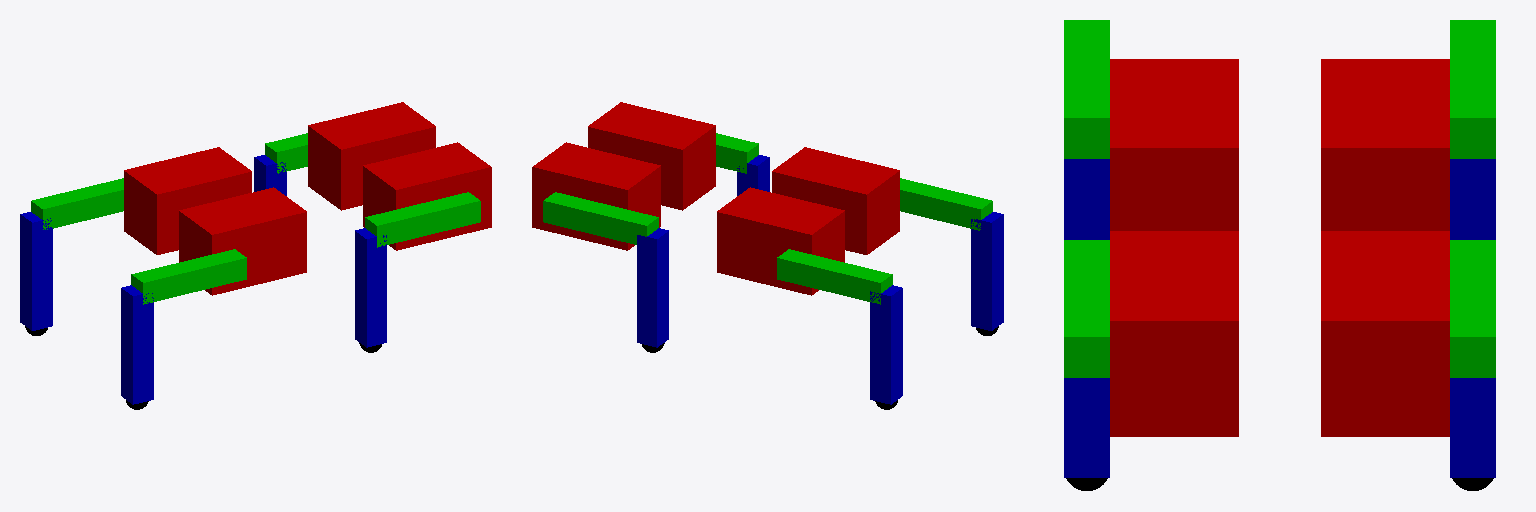
The robot description file, URDF, robot "aidin_m1":
<?xml version="1.0"?>
<robot name="aidin_m1">

  <material name="black">
    <color rgba="0.0 0.0 0.0 1.0"/>
  </material>
  <material name="blue">
    <color rgba="0.0 0.0 0.8 1.0"/>
  </material>
  <material name="green">
    <color rgba="0.0 0.8 0.0 1.0"/>
  </material>
  <material name="grey">
    <color rgba="0.2 0.2 0.2 1.0"/>
  </material>
  <material name="silver">
    <color rgba="0.913725490196 0.913725490196 0.847058823529 1.0"/>
  </material>
  <material name="orange">
    <color rgba="1.0 0.423529411765 0.0392156862745 1.0"/>
  </material>
  <material name="brown">
    <color rgba="0.870588235294 0.811764705882 0.764705882353 1.0"/>
  </material>
  <material name="red">
    <color rgba="0.8 0.0 0.0 1.0"/>
  </material>
  <material name="yellow">
    <color rgba="0.8 0.8 0.0 1.0"/>
  </material>
  <material name="white">
    <color rgba="1.0 1.0 1.0 1.0"/>
  </material>

<!--////////////////////////////////   Odom    ////////////////////////////////-->

  <!-- <link name="odom" /> -->

  <!-- "world" link -->
  <link name="world"/>
  <gazebo reference="world">
    <static>true</static>
  </gazebo>

  <joint name="odom_joint" type="fixed">
    <child link="body"/>
    <parent link="world"/>
    <origin xyz="0 0 0.550" rpy="0 0 0"/>
  </joint>

  <!-- <joint name="fixed_base" type="fixed">
    <origin xyz="0 0 0" rpy="0 0 0"/>
    <parent link="world"/>
    <child link="base"/>
  </joint> -->

<!--////////////////////////////////   Body    ////////////////////////////////-->

  <link name="body">
    <inertial>
      <mass value="10"/>
      <origin xyz="0 0 0" rpy="0 0 0"/>
      <inertia ixx="0.15296333" ixy="0" ixz="0" iyy="0.07221333" iyz="0" izz="0.1474166667"/>
    </inertial>

    <collision>
      <origin xyz="0 0 0" rpy="0 0 0"/>
      <geometry>
        <box size="0.200 0.370 0.216"/>
      </geometry>
    </collision>

    <visual name="body_visual">
      <origin xyz="0 0 0" rpy="0 0 0"/>
      <geometry>
        <!-- <box size="0.200 0.370 0.216"/> -->
        <mesh filename="[local-path]/dev_ws/src/aidin_m1/meshes/body_1.stl" scale="0.001 0.001 0.001"/>
      </geometry>
      <material name="silver"/>
    </visual>
  </link>
  <gazebo reference="body">
    <material>Gazebo/DarkGrey</material>
  </gazebo>

<!--//////////////////////////////// RF LINKS /////////////////////////////////-->

  <link name="RF_scap">
    <inertial>
      <mass value="6"/>
      <origin xyz="0 0 0" rpy="0 0 0"/>
      <inertia ixx="0.73716790" ixy="0.130721360" ixz="0" iyy="0.431162858" iyz="0" izz="0.477083568"/>
    </inertial>

    <collision>
      <origin xyz="0 0 -0.060" rpy="0 0 0"/>
      <geometry>
        <box size="0.140 0.140 0.230"/>
      </geometry>
    </collision>

    <visual name="RF_scap_vis_cover1">
      <origin xyz="0 0 -0.060" rpy="0 0 0"/>
      <geometry>
        <!-- <cylinder length="0.0760" radius="0.0730"/> -->
        <!-- <mesh filename="file://$(find aidin_m1)/meshes/actuator.stl"/>  ////fail,,//// -->
        <!-- <mesh filename="[local-path]/dev_ws/src/aidin_m1/meshes/sc_cover_RF_1.stl" scale="0.001 0.001 0.001"/> -->
        <box size="0.140 0.140 0.230"/>
      </geometry>
      <material name="red"/>
    </visual>
  </link>
  <gazebo reference="RF_scap">
    <material>Gazebo/Red</material>
  </gazebo>

  <link name="RF_hip">
    <inertial>
      <mass value="0.600"/>
      <origin xyz="0.125 0 0" rpy="0 0 0"/>
      <inertia ixx="0.001541527" ixy="0.000007051" ixz="-0.000001356" iyy="0.001938779" iyz="0.000000659" izz="0.001547151"/>
    </inertial>

    <collision>
      <origin xyz="0.125 0 0" rpy="0 0 0"/>
      <geometry>
        <box size="0.250 0.050 0.050"/>
      </geometry>
    </collision>

    <visual name="RF_hip_vis_cover">
      <origin xyz="0.125 0 0" rpy="0 0 0"/>
      <geometry>
        <box size="0.250 0.050 0.050"/>
      </geometry>
      <material name="green"/>
    </visual>
  </link>
  <gazebo reference="RF_hip">
    <material>Gazebo/Green</material>
  </gazebo>

  <link name="RF_knee">
    <inertial>
      <mass value="0.600"/>
      <origin xyz="0.125 0 0" rpy="0 0 0"/>
      <inertia ixx="0.001541527" ixy="0.000007051" ixz="-0.000001356" iyy="0.001938779" iyz="0.000000659" izz="0.001547151"/>
    </inertial>

    <collision>
      <origin xyz="0.145 0 0" rpy="0 0 0"/>
      <geometry>
        <box size="0.230 0.050 0.050"/>
      </geometry>
    </collision>

    <visual name="RF_knee_vis_cover">
      <origin xyz="0.125 0 0" rpy="0 0 0"/>
      <geometry>
        <box size="0.250 0.050 0.050"/>
      </geometry>
      <material name="blue"/>
    </visual>
  </link>
  <gazebo reference="RF_knee">
    <material>Gazebo/Blue</material>
  </gazebo>

  <link name="RF_foot">
    <inertial>
      <mass value="0.01"/>
      <inertia ixx="0" ixy="0.0" ixz="0.0" iyy="0" iyz="0.0" izz="0"/>
    </inertial>

    <collision name="RF_foot_col1">
      <origin rpy="0 0 0" xyz="0 0 0"/>
      <geometry>
        <sphere radius="0.025"/>
      </geometry>
    </collision>

    <visual name="RF_foot_vis_cover">
      <origin rpy="0 0 0" xyz="0 0 0"/>
      <geometry>
        <sphere radius="0.0250"/>
      </geometry>
      <material name="black"/>
    </visual>
  </link>
  <gazebo reference="RF_foot">
    <material>Gazebo/Black</material>
  </gazebo>

<!--//////////////////////////////// RF JOINTS ////////////////////////////////-->

  <joint name="RFJ_scap" type="revolute">
    <parent link="body"/>
    <child link="RF_scap"/>
    <origin xyz="0.282 -0.1150 0" rpy="-1.57079 0 -1.57079"/>
    <axis xyz="0 0 1"/>
    <limit lower="0" upper="0.7854" effort="200.0" velocity="9"/>
    <dynamics damping="1.5"/>
  </joint>

  <joint name="RFJ_hip" type="continuous">
    <parent link="RF_scap"/>
    <child link="RF_hip"/>
    <origin xyz="0.095 0 0" rpy="-1.57079  1.57079 -1.57079"/>
    <axis xyz="0 0 1"/>
    <!-- <limit lower="-3.14" upper="3.14" effort="200.0" velocity="9"/> -->
    <dynamics damping="1.5"/>
  </joint>

  <joint name="RFJ_knee" type="continuous">
    <parent link="RF_hip"/>
    <child link="RF_knee"/>
    <origin xyz="0.250 0 0" rpy="0 0 1.57079"/>
    <axis xyz="0 0 1"/>
    <!-- <limit lower="-1.308996939" upper="1.0471975512" effort="200.0" velocity="9"/> -->
    <dynamics damping="1.5"/>
  </joint>

  <joint name="RFJ_foot" type="fixed" dont_collapse="true">
    <parent link="RF_knee"/>
    <child link="RF_foot"/>
    <origin xyz="0.25 0 0" rpy="0 0 0"/>
    <axis xyz="0 0 1"/>
  </joint>

<!--//////////////////////////////// LF LINKS /////////////////////////////////-->

  <link name="LF_scap">
    <inertial>
      <mass value="6"/>
      <origin xyz="0 0 0" rpy="0 0 0"/>
      <inertia ixx="0.73716790" ixy="0.130721360" ixz="0" iyy="0.431162858" iyz="0" izz="0.477083568"/>
    </inertial>

    <collision>
      <origin xyz="0 0 -0.060" rpy="0 0 0"/>
      <geometry>
        <box size="0.140 0.140 0.230"/>
      </geometry>
    </collision>

    <visual name="LF_scap_vis_cover1">
      <origin xyz="0 0 -0.060" rpy="0 0 0"/>
      <geometry>
        <box size="0.140 0.140 0.230"/>
      </geometry>
      <material name="red"/>
    </visual>
  </link>
  <gazebo reference="LF_scap">
    <material>Gazebo/Red</material>
  </gazebo>

  <link name="LF_hip">
    <inertial>
      <mass value="0.600"/>
      <origin xyz="0.125 0 0" rpy="0 0 0"/>
      <inertia ixx="0.001541527" ixy="0.000007051" ixz="-0.000001356" iyy="0.001938779" iyz="0.000000659" izz="0.001547151"/>
    </inertial>

    <collision>
      <origin xyz="0.125 0 0" rpy="0 0 0"/>
      <geometry>
        <box size="0.250 0.050 0.050"/>
      </geometry>
    </collision>

    <visual name="LF_hip_vis_cover">
      <origin xyz="0.125 0 0" rpy="0 0 0"/>
      <geometry>
        <box size="0.250 0.050 0.050"/>
      </geometry>
      <material name="green"/>
    </visual>
  </link>
  <gazebo reference="LF_hip">
    <material>Gazebo/Green</material>
  </gazebo>

  <link name="LF_knee">
    <inertial>
      <mass value="0.600"/>
      <origin xyz="0.125 0 0" rpy="0 0 0"/>
      <inertia ixx="0.001541527" ixy="0.000007051" ixz="-0.000001356" iyy="0.001938779" iyz="0.000000659" izz="0.001547151"/>
    </inertial>

    <collision>
      <origin xyz="0.145 0 0" rpy="0 0 0"/>
      <geometry>
        <box size="0.230 0.050 0.050"/>
      </geometry>
    </collision>

    <visual name="LF_knee_vis_cover">
      <origin xyz="0.125 0 0" rpy="0 0 0"/>
      <geometry>
        <box size="0.250 0.050 0.050"/>
      </geometry>
      <material name="blue"/>
    </visual>
  </link>
  <gazebo reference="LF_knee">
    <material>Gazebo/Blue</material>
  </gazebo>

  <link name="LF_foot">
    <inertial>
      <mass value="0.01"/>
      <inertia ixx="0" ixy="0.0" ixz="0.0" iyy="0" iyz="0.0" izz="0"/>
    </inertial>

    <collision name="LF_foot_col1">
      <origin rpy="0 0 0" xyz="0 0 0"/>
      <geometry>
        <sphere radius="0.025"/>
      </geometry>
    </collision>

    <visual name="LF_foot_vis_cover">
      <origin rpy="0 0 0" xyz="0 0 0"/>
      <geometry>
        <sphere radius="0.0250"/>
      </geometry>
      <material name="black"/>
    </visual>
  </link>
  <gazebo reference="LF_foot">
    <material>Gazebo/Black</material>
  </gazebo>

<!--//////////////////////////////// LF JOINTS ////////////////////////////////-->

  <joint name="LFJ_scap" type="revolute">
    <parent link="body"/>
    <child link="LF_scap"/>
    <origin xyz="0.282 0.115 0" rpy="1.57079 0 1.57079"/>
    <axis xyz="0 0 1"/>
    <limit lower="-0.7854" upper="0" effort="200.0" velocity="9"/>
    <dynamics damping="3"/>
  </joint>

  <joint name="LFJ_hip" type="continuous">
    <parent link="LF_scap"/>
    <child link="LF_hip"/>
    <origin xyz="0.095 0 0" rpy="-1.57079 1.57079 1.57079"/>
    <axis xyz="0 0 1"/>
    <!-- <limit lower="-3.14" upper="3.14" effort="200.0" velocity="9"/> -->
    <dynamics damping="1.5"/>
  </joint>

  <joint name="LFJ_knee" type="continuous">
    <parent link="LF_hip"/>
    <child link="LF_knee"/>
    <origin xyz="0.250 0 0" rpy="0 0 1.57079"/>
    <axis xyz="0 0 1"/>
    <!-- <limit lower="-1.308996939" upper="1.0471975512" effort="200.0" velocity="9"/> -->
    <dynamics damping="1.5"/>
  </joint>

  <joint name="LFJ_foot" type="fixed" dont_collapse="true">
    <parent link="LF_knee"/>
    <child link="LF_foot"/>
    <origin xyz="0.25 0 0" rpy="0 0 0"/>
    <axis xyz="0 0 1"/>
  </joint>

<!--//////////////////////////////// LB LINKS /////////////////////////////////-->

  <link name="LB_scap">
    <inertial>
      <mass value="6"/>
      <origin xyz="0 0 0" rpy="0 0 0"/>
      <inertia ixx="0.73716790" ixy="0.130721360" ixz="0" iyy="0.431162858" iyz="0" izz="0.477083568"/>
    </inertial>

    <collision>
      <origin xyz="0 0 0.060" rpy="0 0 0"/>
      <geometry>
        <box size="0.140 0.140 0.230"/>
      </geometry>
    </collision>

    <visual name="LB_scap_vis_cover1">
      <origin xyz="0 0 0.060" rpy="0 0 0"/>
      <geometry>
        <box size="0.140 0.140 0.230"/>
      </geometry>
      <material name="red"/>
    </visual>
  </link>
  <gazebo reference="LB_scap">
    <material>Gazebo/Red</material>
  </gazebo>

  <link name="LB_hip">
    <inertial>
      <mass value="0.600"/>
      <origin xyz="0.125 0 0" rpy="0 0 0"/>
      <inertia ixx="0.001541527" ixy="0.000007051" ixz="-0.000001356" iyy="0.001938779" iyz="0.000000659" izz="0.001547151"/>
    </inertial>

    <collision>
      <origin xyz="0.125 0 0" rpy="0 0 0"/>
      <geometry>
        <box size="0.250 0.050 0.050"/>
      </geometry>
    </collision>

    <visual name="LB_hip_vis_cover">
      <origin xyz="0.125 0 0" rpy="0 0 0"/>
      <geometry>
        <box size="0.250 0.050 0.050"/>
      </geometry>
      <material name="green"/>
    </visual>
  </link>
  <gazebo reference="LB_hip">
    <material>Gazebo/Green</material>
  </gazebo>

  <link name="LB_knee">
    <inertial>
      <mass value="0.600"/>
      <origin xyz="0.125 0 0" rpy="0 0 0"/>
      <inertia ixx="0.001541527" ixy="0.000007051" ixz="-0.000001356" iyy="0.001938779" iyz="0.000000659" izz="0.001547151"/>
    </inertial>

    <collision>
      <origin xyz="0.145 0 0" rpy="0 0 0"/>
      <geometry>
        <box size="0.230 0.050 0.050"/>
      </geometry>
    </collision>

    <visual name="LB_knee_vis_cover">
      <origin xyz="0.125 0 0" rpy="0 0 0"/>
      <geometry>
        <box size="0.250 0.050 0.050"/>
      </geometry>
      <material name="blue"/>
    </visual>
  </link>
  <gazebo reference="LB_knee">
    <material>Gazebo/Blue</material>
  </gazebo>

  <link name="LB_foot">
    <inertial>
      <mass value="0.01"/>
      <inertia ixx="0" ixy="0.0" ixz="0.0" iyy="0" iyz="0.0" izz="0"/>
    </inertial>

    <collision name="LB_foot_col1">
      <origin rpy="0 0 0" xyz="0 0 0"/>
      <geometry>
        <sphere radius="0.025"/>
      </geometry>
    </collision>

    <visual name="LB_foot_vis_cover">
      <origin rpy="0 0 0" xyz="0 0 0"/>
      <geometry>
        <sphere radius="0.0250"/>
      </geometry>
      <material name="black"/>
    </visual>
  </link>
  <gazebo reference="LB_foot">
    <material>Gazebo/Black</material>
  </gazebo>

<!--//////////////////////////////// LB JOINTS ////////////////////////////////-->

  <joint name="LBJ_scap" type="revolute">
    <parent link="body"/>
    <child link="LB_scap"/>
    <origin xyz="-0.282 0.1150 0" rpy="1.57079 0 1.57079"/>
    <axis xyz="0 0 1"/>
    <limit lower="-0.7854" upper="0" effort="200.0" velocity="9"/>
    <dynamics damping="3"/>
  </joint>

  <joint name="LBJ_hip" type="continuous">
    <parent link="LB_scap"/>
    <child link="LB_hip"/>
    <origin xyz="0.095 0 0" rpy="-1.559 1.57079 1.58259"/>
    <axis xyz="0 0 1"/>
    <!-- <limit lower="-3.14" upper="3.14" effort="200.0" velocity="9"/> -->
    <dynamics damping="1.5"/>
  </joint>

  <joint name="LBJ_knee" type="continuous">
    <parent link="LB_hip"/>
    <child link="LB_knee"/>
    <origin xyz="0.250 0 0" rpy="0 0 1.57079"/>
    <axis xyz="0 0 1"/>
    <!-- <limit lower="-1.308996939" upper="1.0471975512" effort="200.0" velocity="9"/> -->
    <dynamics damping="1.5"/>
  </joint>

  <joint name="LBJ_foot" type="fixed" dont_collapse="true">
    <parent link="LB_knee"/>
    <child link="LB_foot"/>
    <origin xyz="0.25 0 0" rpy="0 0 0"/>
    <axis xyz="0 0 1"/>
  </joint>

<!--//////////////////////////////// RB LINKS /////////////////////////////////-->

  <link name="RB_scap">
    <inertial>
      <mass value="6"/>
      <origin xyz="0 0 0" rpy="0 0 0"/>
      <inertia ixx="0.73716790" ixy="0.130721360" ixz="0" iyy="0.431162858" iyz="0" izz="0.477083568"/>
    </inertial>

    <collision>
      <origin xyz="0 0 0.060" rpy="0 0 0"/>
      <geometry>
        <box size="0.140 0.140 0.230"/>
      </geometry>
    </collision>

    <visual name="RB_scap_vis_cover1">
      <origin xyz="0 0 0.060" rpy="0 0 0"/>
      <geometry>
        <box size="0.140 0.140 0.230"/>
      </geometry>
      <material name="red"/>
    </visual>
  </link>
  <gazebo reference="RB_scap">
    <material>Gazebo/Red</material>
  </gazebo>

  <link name="RB_hip">
    <inertial>
      <mass value="0.600"/>
      <origin xyz="0.125 0 0" rpy="0 0 0"/>
      <inertia ixx="0.001541527" ixy="0.000007051" ixz="-0.000001356" iyy="0.001938779" iyz="0.000000659" izz="0.001547151"/>
    </inertial>

    <collision>
      <origin xyz="0.125 0 0" rpy="0 0 0"/>
      <geometry>
        <box size="0.250 0.050 0.050"/>
      </geometry>
    </collision>

    <visual name="RB_hip_vis_cover">
      <origin xyz="0.125 0 0" rpy="0 0 0"/>
      <geometry>
        <box size="0.250 0.050 0.050"/>
      </geometry>
      <material name="green"/>
    </visual>
  </link>
  <gazebo reference="RB_hip">
    <material>Gazebo/Green</material>
  </gazebo>

  <link name="RB_knee">
    <inertial>
      <mass value="0.600"/>
      <origin xyz="0.125 0 0" rpy="0 0 0"/>
      <inertia ixx="0.001541527" ixy="0.000007051" ixz="-0.000001356" iyy="0.001938779" iyz="0.000000659" izz="0.001547151"/>
    </inertial>

    <collision>
      <origin xyz="0.145 0 0" rpy="0 0 0"/>
      <geometry>
        <box size="0.230 0.050 0.050"/>
      </geometry>
    </collision>

    <visual name="RB_knee_vis_cover">
      <origin xyz="0.125 0 0" rpy="0 0 0"/>
      <geometry>
        <box size="0.250 0.050 0.050"/>
      </geometry>
      <material name="blue"/>
    </visual>
  </link>
  <gazebo reference="RB_knee">
    <material>Gazebo/Blue</material>
  </gazebo>

  <link name="RB_foot">
    <inertial>
      <mass value="0.01"/>
      <inertia ixx="0" ixy="0.0" ixz="0.0" iyy="0" iyz="0.0" izz="0"/>
    </inertial>

    <collision name="RB_foot_col1">
      <origin rpy="0 0 0" xyz="0 0 0"/>
      <geometry>
        <sphere radius="0.025"/>
      </geometry>
    </collision>

    <visual name="RB_foot_vis_cover">
      <origin rpy="0 0 0" xyz="0 0 0"/>
      <geometry>
        <sphere radius="0.0250"/>
      </geometry>
      <material name="black"/>
    </visual>
  </link>
  <gazebo reference="RB_foot">
    <material>Gazebo/Black</material>
  </gazebo>

<!--//////////////////////////////// RB JOINTS ////////////////////////////////-->

  <joint name="RBJ_scap" type="revolute">
    <parent link="body"/>
    <child link="RB_scap"/>
    <origin xyz="-0.282 -0.1150   0" rpy="-1.57079 0 -1.57079"/>
    <axis xyz="0 0 1"/>
    <limit lower="0" upper="0.7854" effort="200.0" velocity="9"/>
    <dynamics damping="3"/>
  </joint>

  <joint name="RBJ_hip" type="continuous">
    <parent link="RB_scap"/>
    <child link="RB_hip"/>
    <origin xyz="0.095 0 0" rpy="-1.58259 1.57079 -1.58259"/>
    <axis xyz="0 0 1"/>
    <!-- <limit lower="-3.14" upper="3.14" effort="200.0" velocity="9"/> -->
    <!-- <limit lower="-0.00001" upper="1.20" effort="200.0" velocity="9"/> -->
    <dynamics damping="1.5"/>
  </joint>

  <joint name="RBJ_knee" type="continuous">
    <parent link="RB_hip"/>
    <child link="RB_knee"/>
    <origin xyz="0.250 0 0" rpy="0 0 1.57079"/>
    <axis xyz="0 0 1"/>
    <!-- <limit lower="-3.14" upper="3.14" effort="200.0" velocity="9"/> -->
    <!-- <limit lower="-3.14" upper="0.07" effort="200.0" velocity="9"/> -->
    <dynamics damping="1.5"/>
  </joint>

  <joint name="RBJ_foot" type="fixed" dont_collapse="true">
    <parent link="RB_knee"/>
    <child link="RB_foot"/>
    <origin xyz="0.25 0 0" rpy="0 0 0"/>
    <axis xyz="0 0 1"/>
  </joint>

<!--//////////////////////////////// Sensor - Lidar //////////////////////////////////-->

<!--//////////////////////////////// Sensor - Camera ////////////////////////////////-->
<!-- camera names -->
<!--

                              __1/2__
1. camera_upper               |     |
2. camera_lower               |     |
3. camera_left              3 |     | 5
4. camera_back                |     |
5. camera_right               |_____|
                                 4
-->

<!--/////////////////////////////// Camera Upper //////////////////////////////////-->

<!--/////////////////////////////// Camera Lower //////////////////////////////////-->

<!--/////////////////////////////// Camera Left //////////////////////////////////-->

<!--/////////////////////////////// Camera Back //////////////////////////////////-->

<!--/////////////////////////////// Camera Right //////////////////////////////////-->

<!--//////////////////////////////// Aidin_m1 Plugin ////////////////////////////////-->

  <gazebo>
    <plugin name="aidin_m1_plugin" filename="libaidin_m1_plugin.so">
      <update_rate>20</update_rate>

      <!-- necessary? -->
      <joint_name>odom_joint</joint_name>

      <joint_name>RFJ_scap</joint_name>
      <joint_name>RFJ_hip</joint_name>
      <joint_name>RFJ_knee</joint_name>

      <joint_name>LFJ_scap</joint_name>
      <joint_name>LFJ_hip</joint_name>
      <joint_name>LFJ_knee</joint_name>

      <joint_name>LBJ_scap</joint_name>
      <joint_name>LBJ_hip</joint_name>
      <joint_name>LBJ_knee</joint_name>

      <joint_name>RBJ_scap</joint_name>
      <joint_name>RBJ_hip</joint_name>
      <joint_name>RBJ_knee</joint_name>

    </plugin>
  </gazebo>

</robot>

--- Facts derived from the render (not from the file) ---
3 views of the same robot in one strip: view 1: azimuth 30°, elevation 25°; view 2: azimuth 150°, elevation 25°; view 3: azimuth 270°, elevation 25° (orthographic).
Model aidin_m1 with 18 links and 17 joints (4 revolute, 8 continuous, 5 fixed), rooted at world, posed all joints at 0.
Links seen in each view (by area): view 1: RB_scap, LF_scap, LB_scap, RF_scap, LB_knee, RB_knee, RF_hip, RB_hip, RF_knee, LB_hip, LF_hip, LF_knee; view 2: LB_scap, RF_scap, RB_scap, LF_scap, RB_knee, LB_knee, LF_knee, LB_hip, LF_hip, RB_hip, RF_hip, RF_knee; view 3: RF_scap, LF_scap, LB_scap, RB_scap, LB_hip, RB_hip, RF_hip, LF_hip, RF_knee, LF_knee, LB_knee, RB_knee.
Boxes of the visible links, bbox=[...] form: RB_scap: bbox=[179, 187, 306, 295]; LF_scap: bbox=[308, 102, 435, 210]; LB_scap: bbox=[124, 147, 251, 254]; RF_scap: bbox=[363, 142, 491, 250]; LB_knee: bbox=[20, 212, 52, 330]; RB_knee: bbox=[121, 285, 153, 404]; RF_hip: bbox=[365, 192, 480, 247]; RB_hip: bbox=[131, 249, 246, 304]; RF_knee: bbox=[355, 228, 386, 347]; LB_hip: bbox=[31, 178, 123, 229]; LF_hip: bbox=[265, 133, 307, 173]; LF_knee: bbox=[254, 155, 286, 195]; LB_scap: bbox=[717, 187, 844, 295]; RF_scap: bbox=[588, 102, 715, 210]; RB_scap: bbox=[772, 147, 899, 254]; LF_scap: bbox=[532, 142, 660, 250]; RB_knee: bbox=[971, 212, 1003, 330]; LB_knee: bbox=[870, 285, 902, 404]; LF_knee: bbox=[637, 228, 668, 347]; LB_hip: bbox=[777, 249, 892, 304]; LF_hip: bbox=[543, 192, 658, 244]; RB_hip: bbox=[900, 178, 992, 230]; RF_hip: bbox=[716, 133, 758, 173]; RF_knee: bbox=[737, 155, 769, 195]; RF_scap: bbox=[1110, 231, 1238, 436]; LF_scap: bbox=[1321, 231, 1449, 436]; LB_scap: bbox=[1321, 59, 1449, 230]; RB_scap: bbox=[1110, 59, 1238, 230]; LB_hip: bbox=[1450, 20, 1495, 158]; RB_hip: bbox=[1064, 20, 1109, 158]; RF_hip: bbox=[1064, 240, 1109, 377]; LF_hip: bbox=[1450, 240, 1495, 377]; RF_knee: bbox=[1064, 378, 1109, 477]; LF_knee: bbox=[1450, 378, 1495, 477]; LB_knee: bbox=[1450, 159, 1495, 239]; RB_knee: bbox=[1064, 159, 1109, 239].
Bounding box of the posed robot: 0.894 × 0.47 × 0.345 m (x, y, z).
Geometry: only primitive shapes (box / cylinder / sphere) drawn; not drawn: 1 mesh visual (reference in a form the renderer does not follow).
